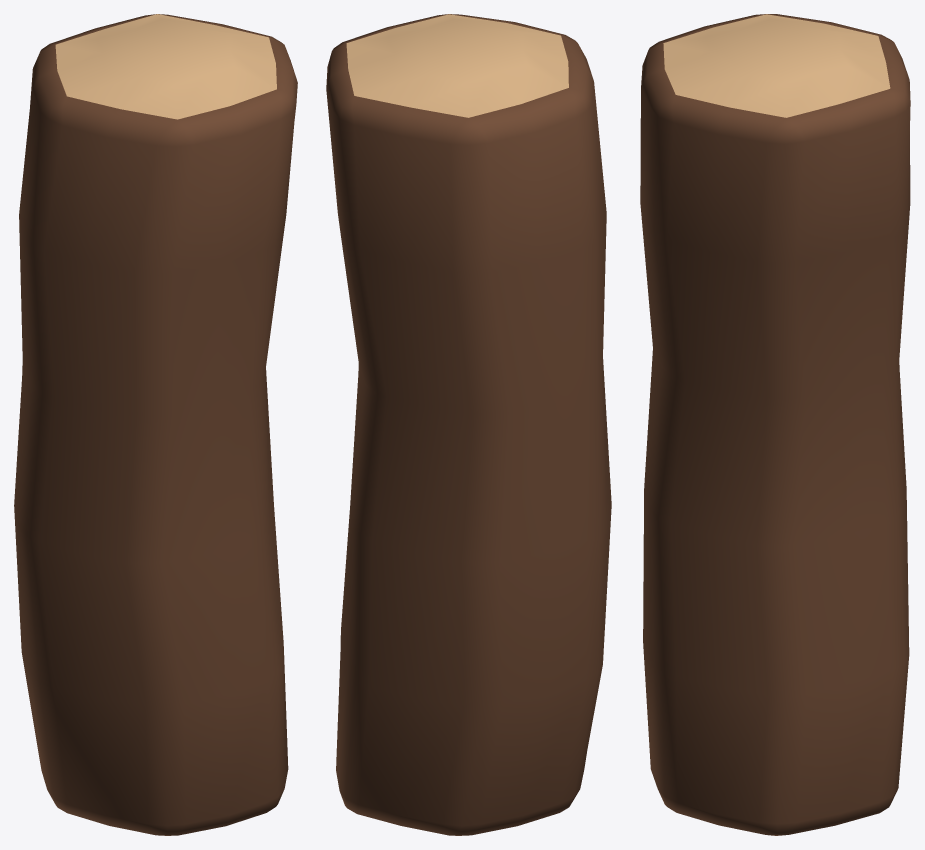
File: SM_Log_B.fbx
The picture shows the model from 3 angles, left to right: view 1: azimuth 30°, elevation 25°; view 2: azimuth 150°, elevation 25°; view 3: azimuth 270°, elevation 25°; orthographic projection.
Visible parts, largest first — view 1: SM_Log_B; view 2: SM_Log_B; view 3: SM_Log_B.
Boxes of the visible parts, x1,y1,x2,y2 form: SM_Log_B: (14,14,297,835); SM_Log_B: (326,14,611,835); SM_Log_B: (640,14,910,835).
Size of the model in its own units: 0.1102 by 0.3015 by 0.0982.
